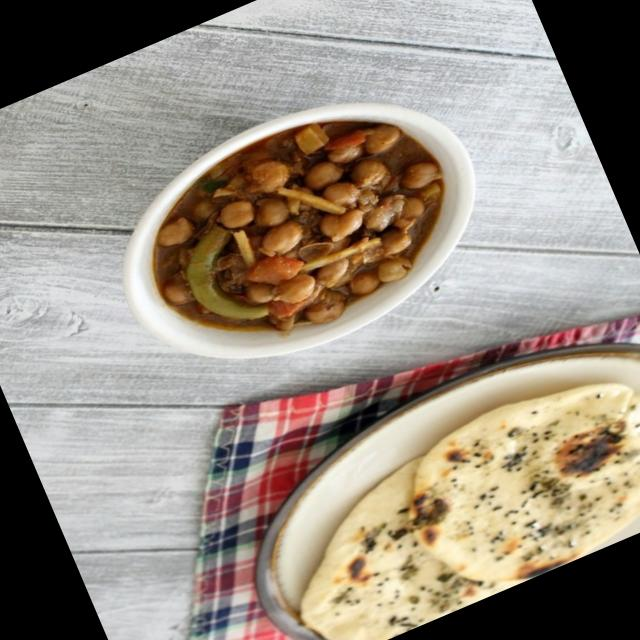Chole: (122, 80, 478, 377)
